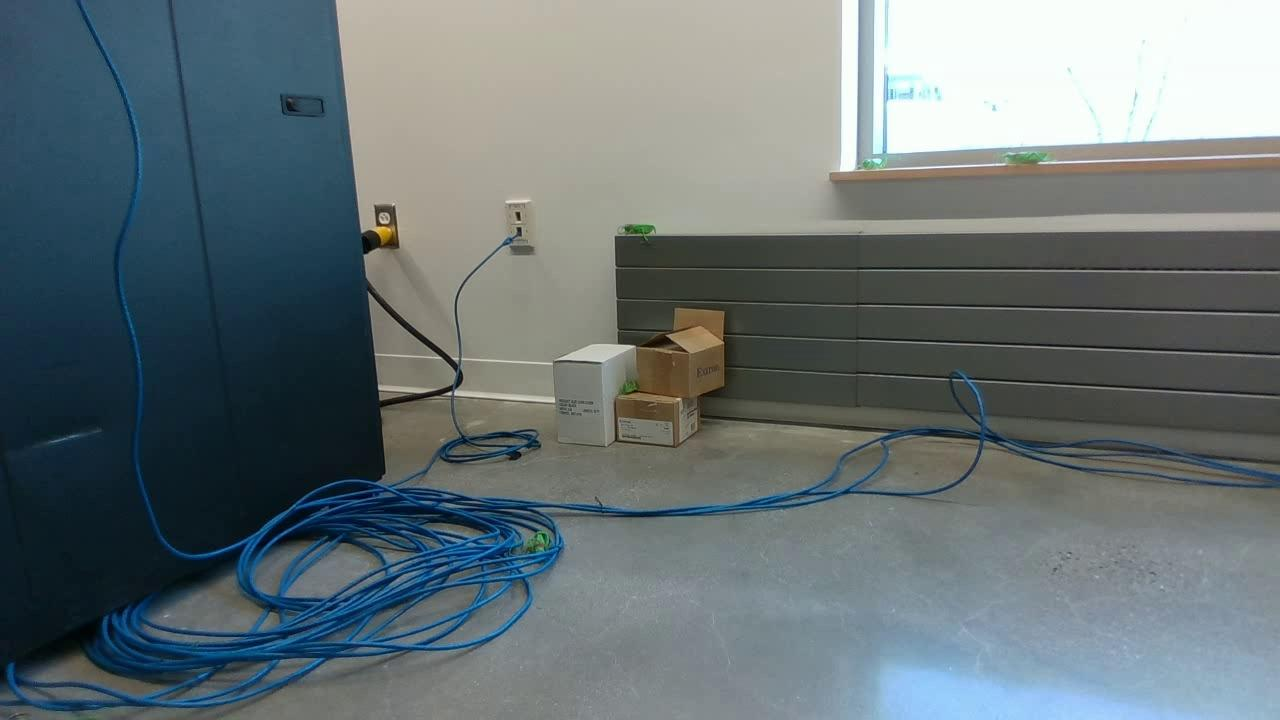grasshopper: (519, 529, 561, 562), (992, 146, 1052, 167), (615, 213, 660, 238), (618, 368, 645, 399), (854, 155, 893, 169)
